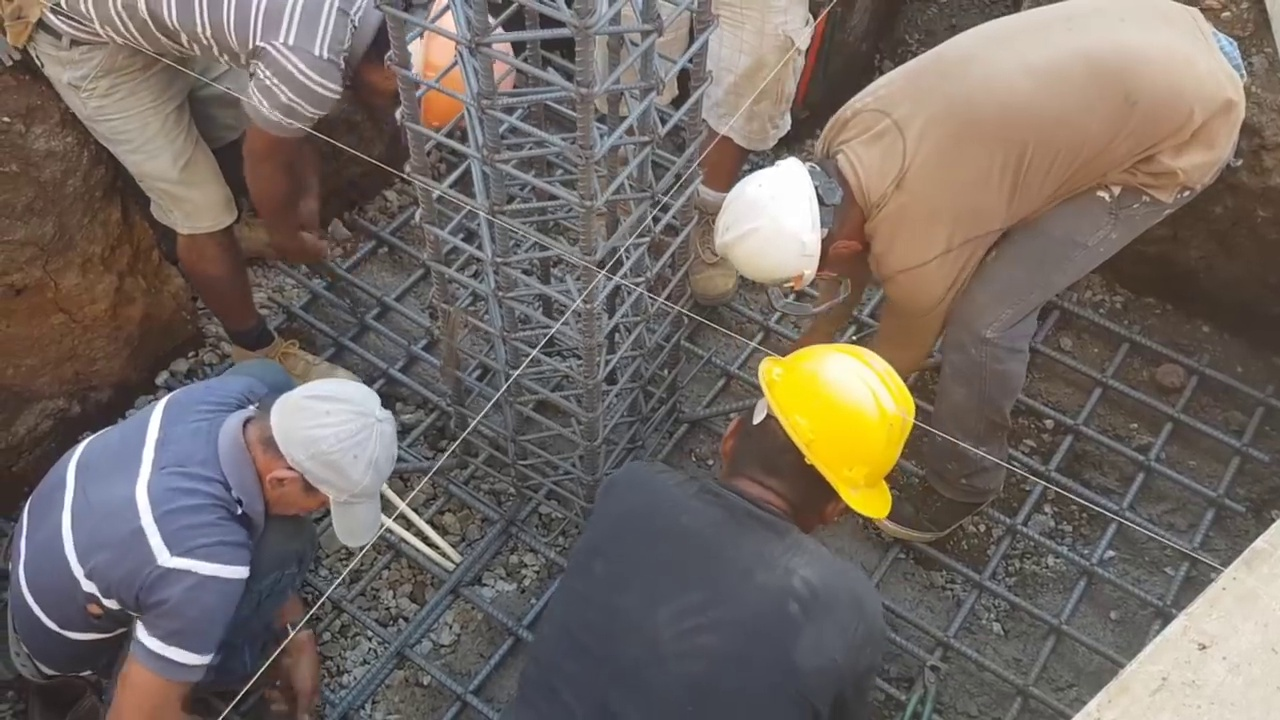helmet: (766, 345, 914, 520), (718, 155, 827, 289), (378, 22, 479, 157), (412, 8, 510, 131)
helmet-off: (258, 377, 395, 538)
helmet-on: (709, 339, 908, 532), (715, 138, 877, 292), (366, 2, 504, 158)
person: (715, 0, 1250, 520), (13, 3, 513, 363), (521, 347, 909, 712), (21, 353, 393, 720), (597, 3, 805, 311)
